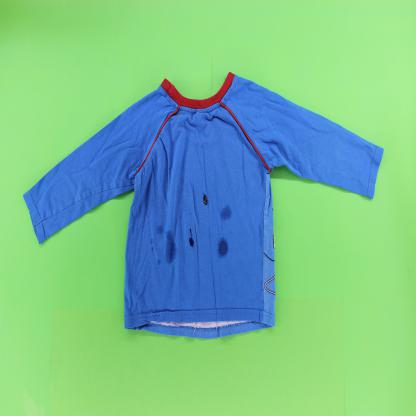stain: (164, 230, 179, 265), (216, 234, 231, 261), (219, 204, 233, 223), (187, 226, 196, 252), (202, 192, 209, 207), (156, 225, 164, 235), (157, 258, 161, 266), (151, 245, 154, 253), (150, 237, 153, 244)
